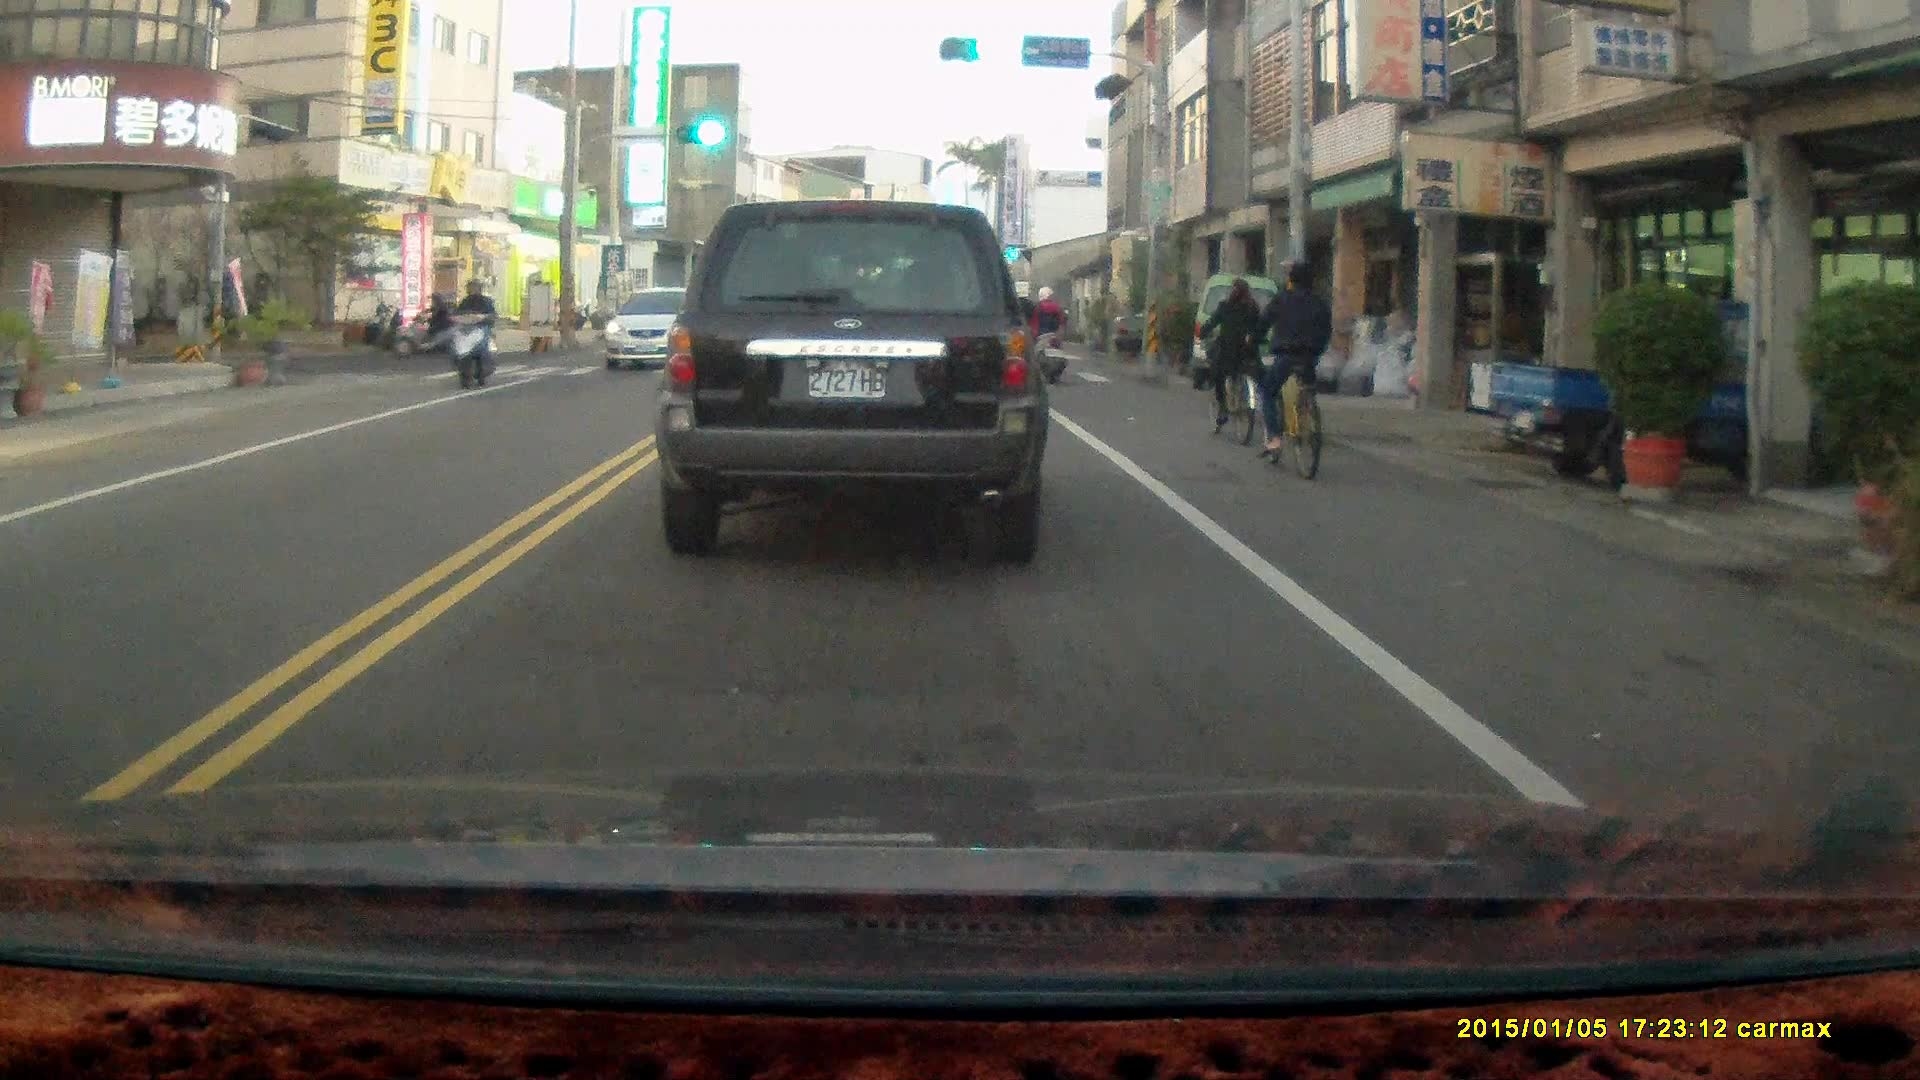rider: (1239, 258, 1333, 479), (1200, 277, 1262, 440), (446, 278, 500, 389), (392, 285, 466, 362), (1025, 285, 1069, 387)
vehicle: (655, 197, 1053, 560), (1191, 277, 1299, 387), (606, 284, 713, 371)
